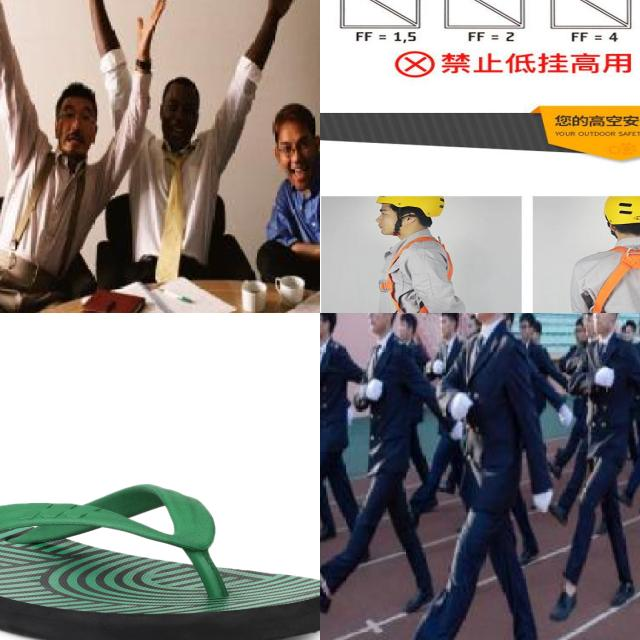Harness: (577, 244, 640, 313)
Sandals: (0, 481, 320, 640)
face_nomask: (274, 131, 320, 197), (52, 100, 98, 159), (160, 94, 200, 150), (366, 313, 397, 329), (591, 313, 612, 334), (468, 313, 502, 325)
hand_glove: (448, 384, 473, 421), (362, 376, 385, 402), (596, 363, 614, 392), (534, 485, 553, 512), (559, 402, 573, 428), (449, 419, 466, 440), (434, 356, 445, 370)
hand_noglove: (134, 0, 168, 63), (257, 0, 308, 14)
head_nohelmet: (267, 100, 320, 134), (57, 77, 99, 113), (163, 71, 205, 100), (433, 313, 459, 321)
person: (456, 313, 559, 640), (110, 66, 240, 284), (352, 313, 440, 632), (0, 81, 104, 313), (563, 313, 635, 624), (264, 104, 320, 313), (320, 313, 360, 562)
shoes: (540, 585, 580, 623), (603, 575, 640, 609), (403, 584, 438, 612), (320, 583, 336, 618), (320, 519, 341, 542)
